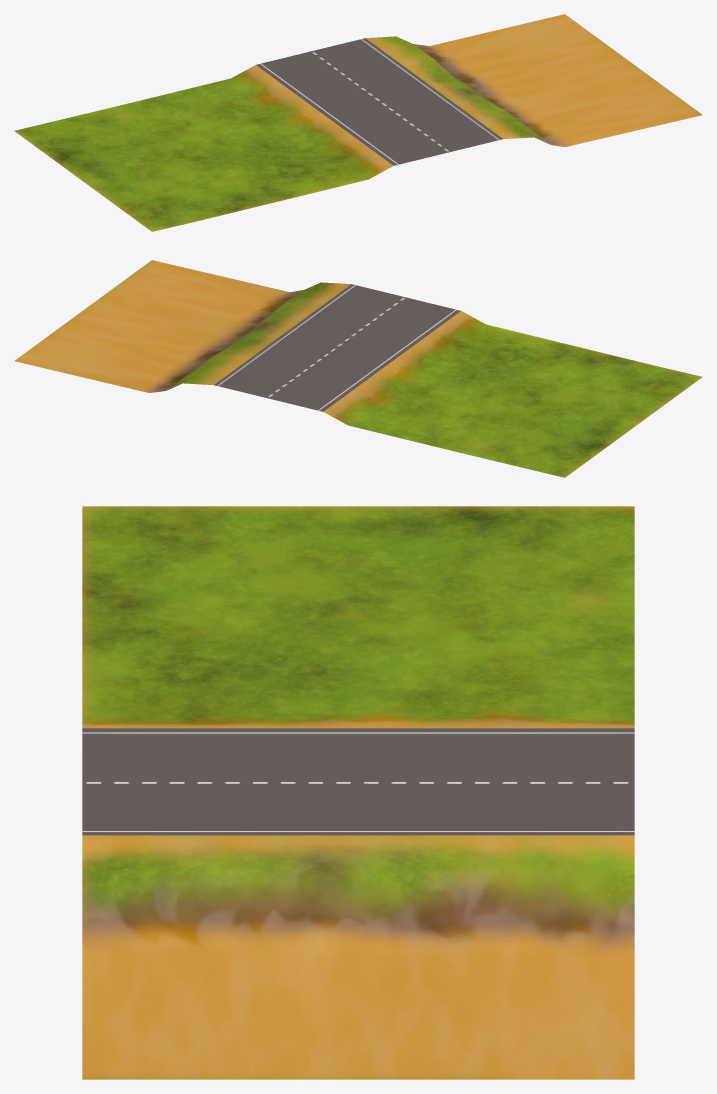
Rendered from road_track.glb.
3 renders of one model, top to bottom at view 1: azimuth 30°, elevation 25°; view 2: azimuth 150°, elevation 25°; view 3: azimuth 270°, elevation 25°, orthographic. The views are drawn at different scales.
Parts seen in each view (by area): view 1: RoadTrack; view 2: RoadTrack; view 3: RoadTrack.
Part boxes in pixels (x1=…): RoadTrack: x1=14, y1=14, x2=702, y2=231; RoadTrack: x1=14, y1=260, x2=702, y2=477; RoadTrack: x1=82, y1=506, x2=634, y2=1079.
Bounding box in the file's own units: 131 × 5.59 × 56.71.
Materials: 1 (1 with a texture image).
